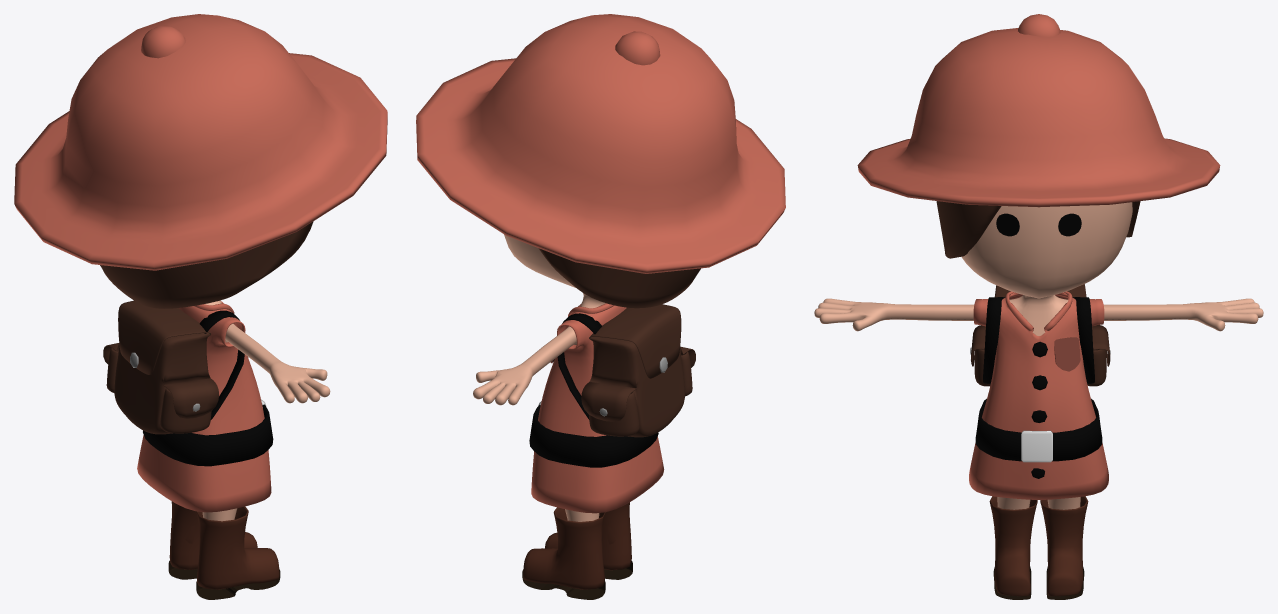
The model's file is pusher_char7.fbx.
3 renders of one model, left to right at view 1: azimuth 30°, elevation 25°; view 2: azimuth 150°, elevation 25°; view 3: azimuth 270°, elevation 25°, orthographic. The views are drawn at different scales.
Parts seen in each view (by area): view 1: Plane.005, Cube.008, Plane.001, Cube.001, Cube.006, Plane.002, Cube, Cube.012, Plane.004, Plane.006; view 2: Plane.005, Cube.008, Plane.001, Cube.006, Cube.001, Cube, Plane.002, Cube.012, Plane.004, Plane.006; view 3: Plane.005, Cube, Plane.001, Cube.006, Plane.002, Cube.001, Plane.006, Cube.008, Cube.007, Plane, Plane.003, Cube.012.
Part boxes in pixels (x1,y1,x2,y2): Plane.005: (14,14,387,270); Cube.008: (103,300,218,434); Plane.001: (137,301,271,512); Cube.001: (100,221,313,308); Cube.006: (169,501,279,589); Plane.002: (143,404,273,466); Cube: (202,300,330,521); Cube.012: (141,25,185,58); Plane.004: (168,560,280,599); Plane.006: (199,310,244,419); Plane.005: (416,14,785,273); Cube.008: (581,304,695,437); Plane.001: (531,303,664,513); Cube.006: (523,502,631,589); Cube.001: (538,248,700,308); Cube: (473,234,605,521); Plane.002: (529,405,658,467); Cube.012: (615,31,660,65); Plane.004: (522,561,632,599); Plane.006: (557,313,601,419); Plane.005: (857,28,1220,207); Cube: (814,202,1263,509); Plane.001: (969,291,1108,499); Cube.006: (989,496,1088,596); Plane.002: (975,398,1102,461); Cube.001: (936,201,1140,258); Plane.006: (983,297,1094,383); Cube.008: (971,284,1110,386); Cube.007: (1021,430,1052,462); Plane: (996,213,1081,236); Plane.003: (1054,337,1080,371); Cube.012: (1018,14,1060,36).
Bounding box in the file's own units: 358 × 281 × 473.
